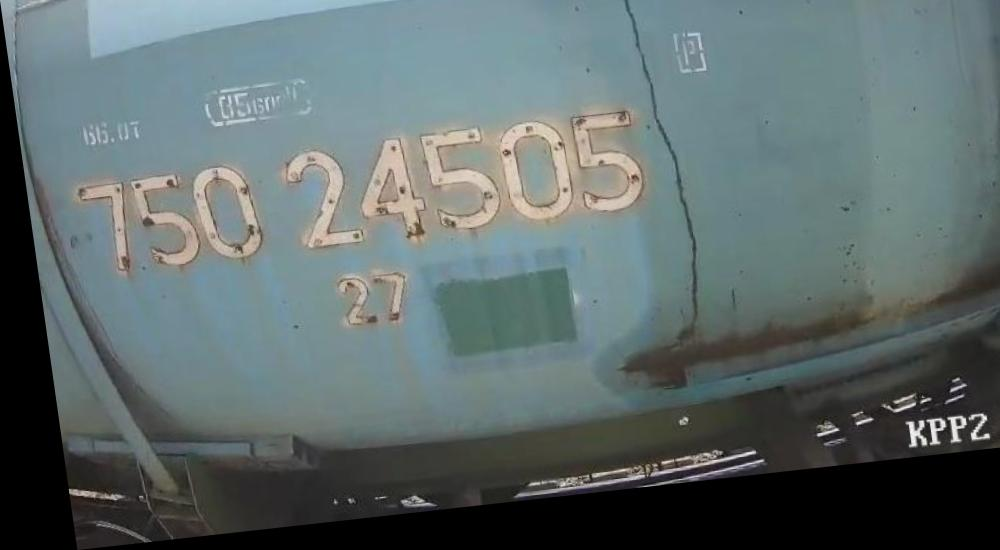Wagon-number: (64, 116, 658, 284)
